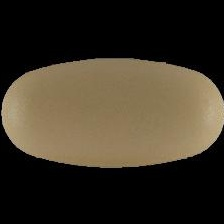61958-1004: (0, 0, 224, 224)
